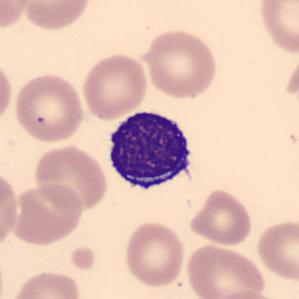Basophil: (101, 104, 201, 197)
Lymphocyte: (102, 104, 201, 198)
RBC: (140, 28, 221, 100), (11, 70, 86, 144), (32, 142, 110, 213), (9, 181, 85, 247), (80, 51, 149, 121), (184, 242, 268, 299), (122, 219, 187, 288), (187, 187, 254, 247), (254, 218, 298, 284), (255, 0, 299, 56), (9, 268, 83, 299), (21, 0, 93, 31), (0, 168, 20, 251), (0, 0, 35, 31), (0, 58, 14, 127), (215, 288, 283, 299)
